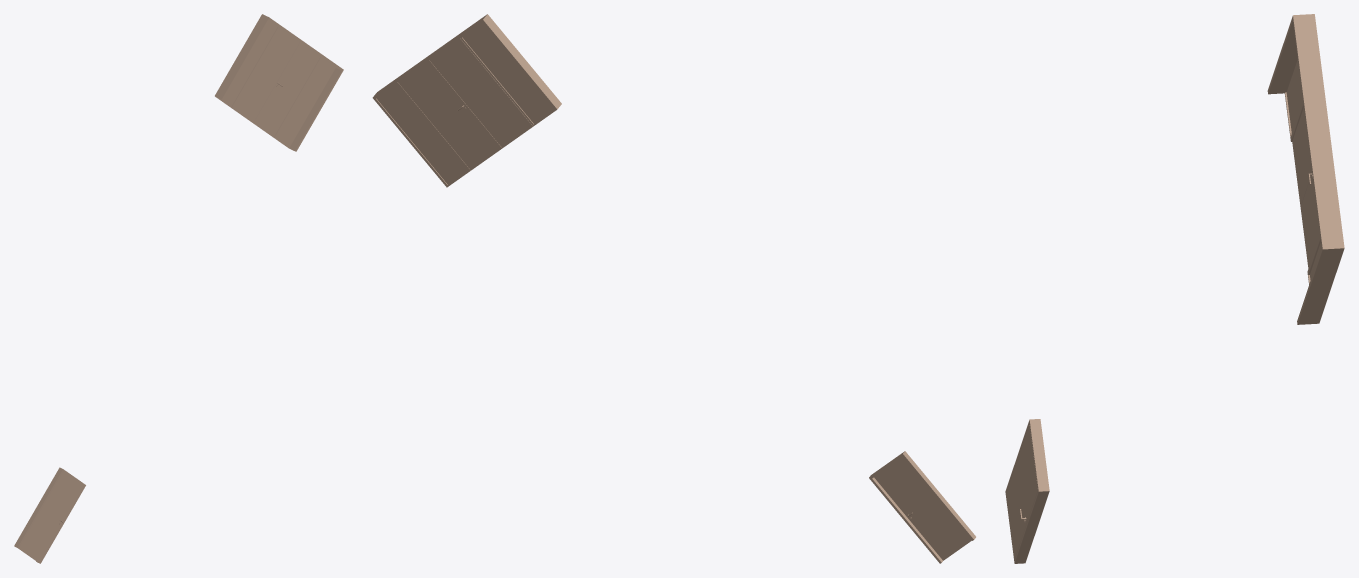
3 renders of one model, left to right at view 1: azimuth 30°, elevation 25°; view 2: azimuth 150°, elevation 25°; view 3: azimuth 270°, elevation 25°, orthographic. The views are drawn at different scales.
Visible parts, largest first — view 1: mesh; view 2: mesh; view 3: mesh.
Boxes of the visible parts, bbox=[...] form: mesh: bbox=[14, 14, 343, 563]; mesh: bbox=[372, 14, 975, 563]; mesh: bbox=[1005, 14, 1344, 563].
Bounding box in the file's own units: 10.52 × 10.43 × 3.83.
